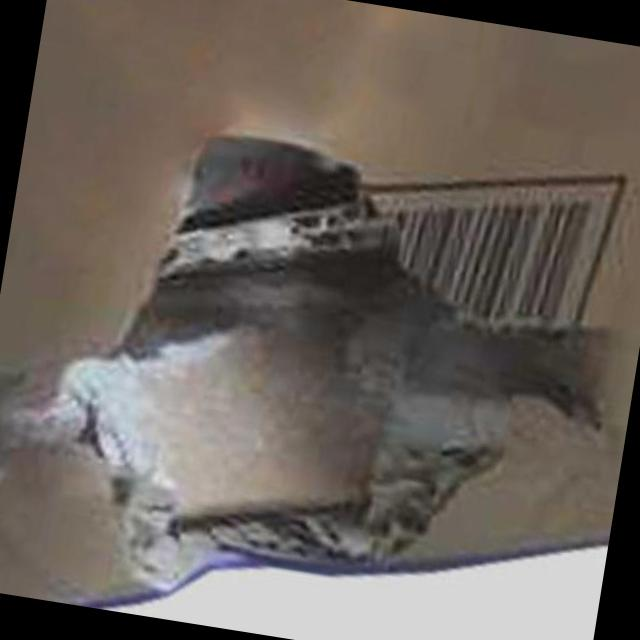box: (1, 1, 640, 640)
tear: (29, 133, 608, 595)
